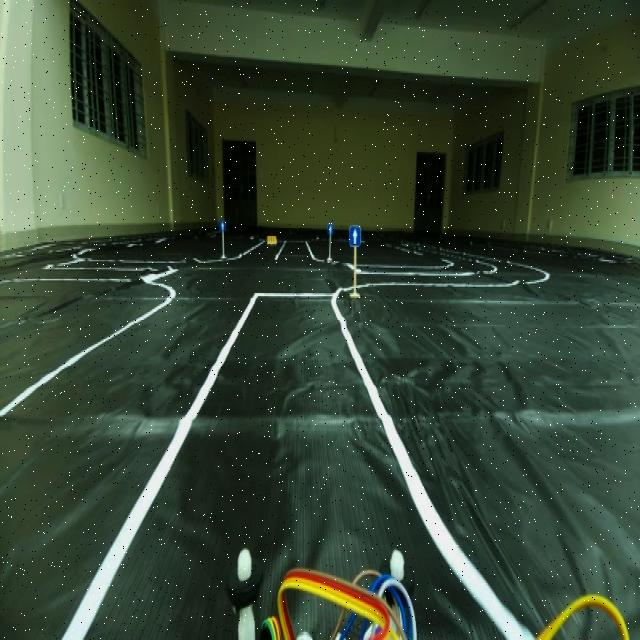onewayroad: (349, 221, 361, 246), (216, 216, 228, 235), (326, 222, 334, 236)
roadblock: (265, 230, 279, 250)
